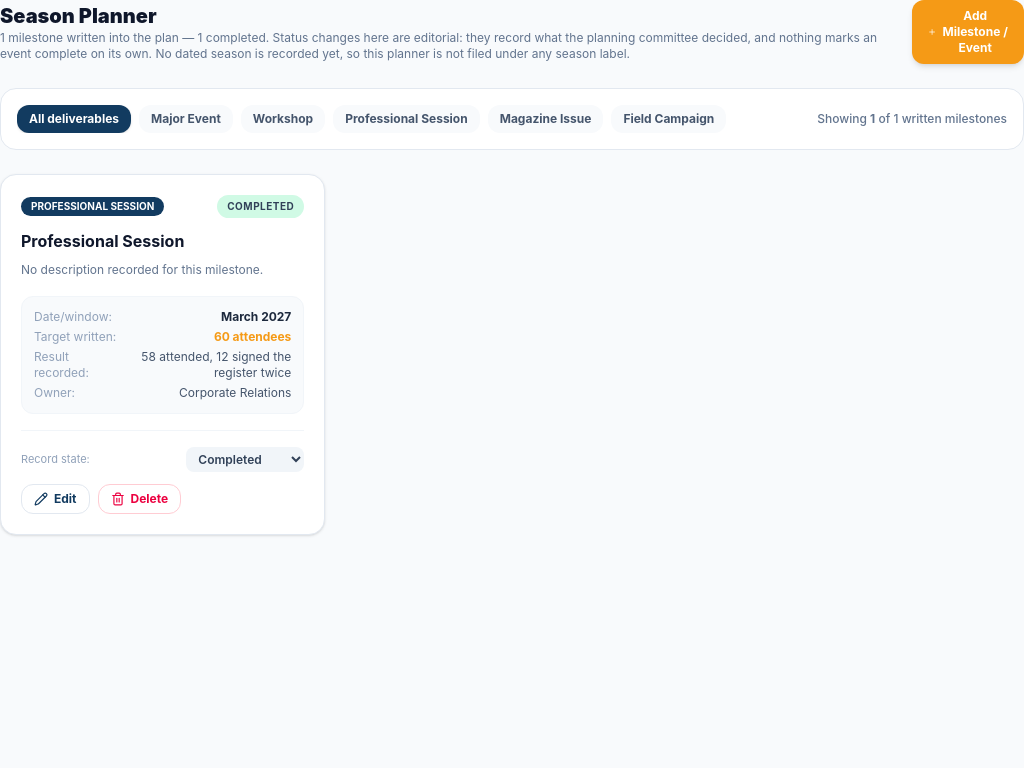
Test: deletion is confirmed, named, and scoped to one row › preserves a recorded result through an edit, because the form does not own evidence
Check: the heading "Season Planner" is shown, box x1=0 y1=4 x2=157 y2=28
Click the button with aria-label "Edit Professional Session": (55, 498) x1=21 y1=484 x2=90 y2=514
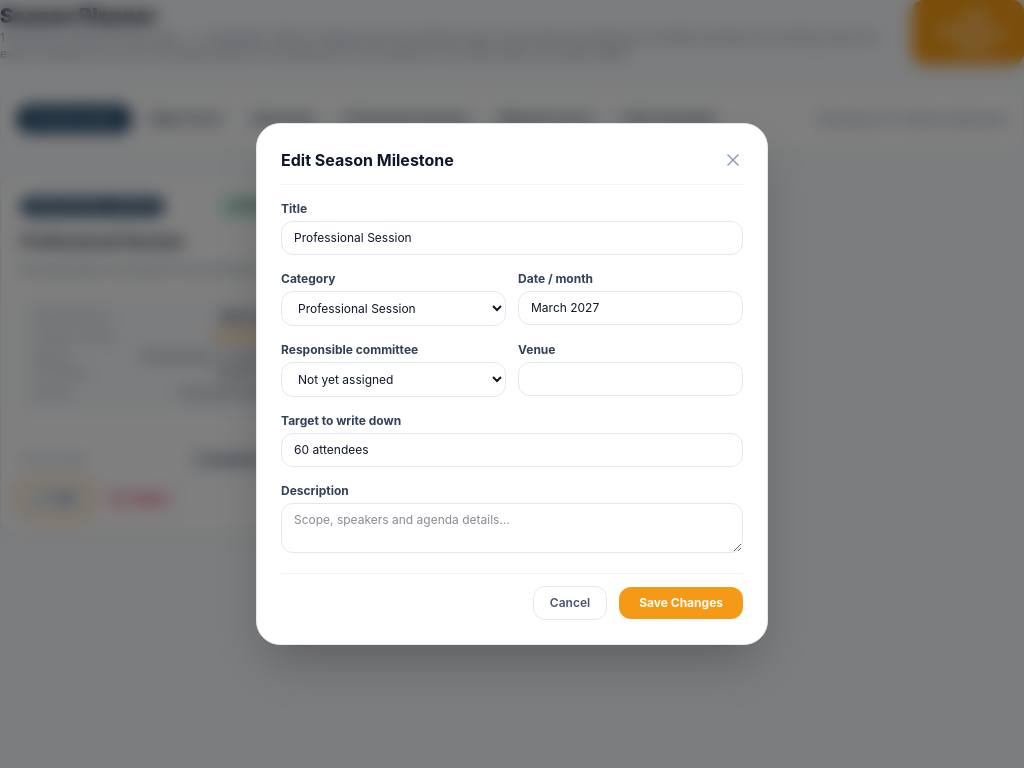
Replace the text in the field labelled "Date / month" with "February 2027": (630, 308) x1=518 y1=291 x2=743 y2=325
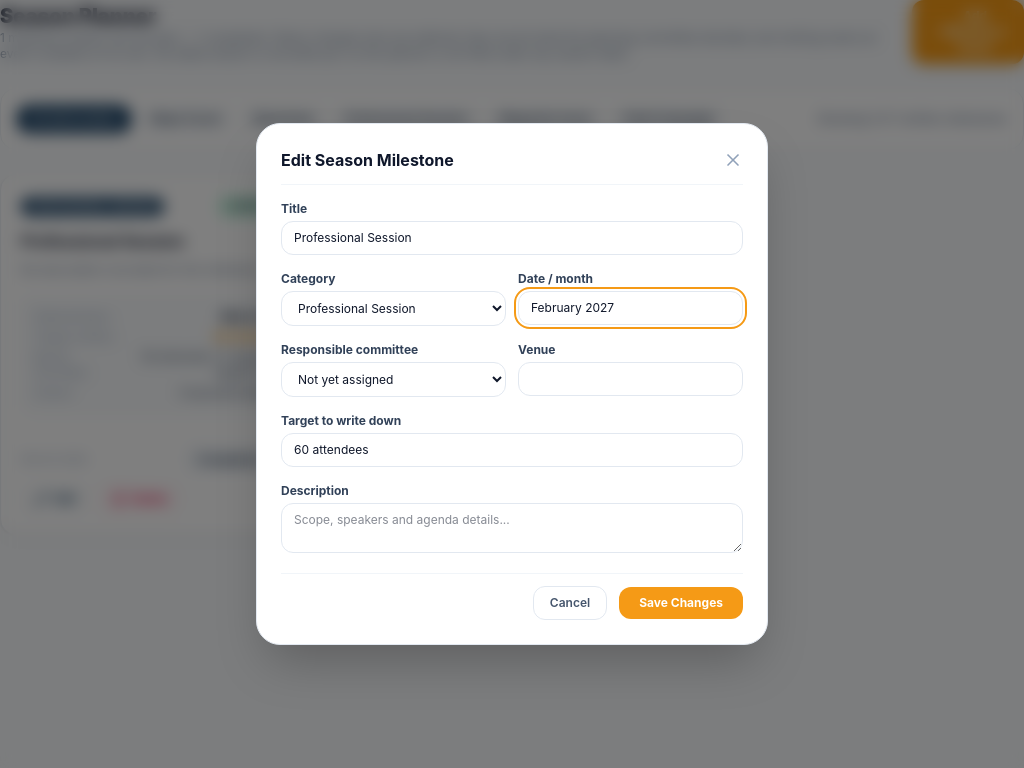
Click the button "Save Changes": (681, 603) x1=619 y1=587 x2=743 y2=619
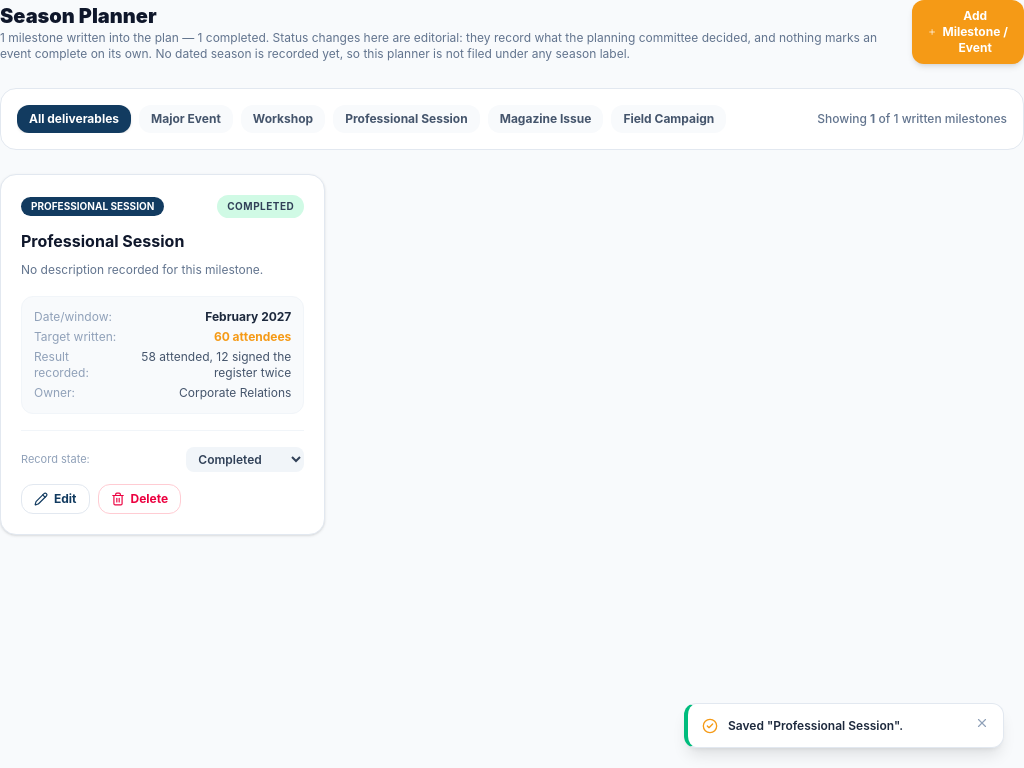
Check: the text "58 attended, 12 signed the register twice" is shown, box x1=141 y1=348 x2=291 y2=380
Check: the text "February 2027" is shown, box x1=205 y1=308 x2=291 y2=324
